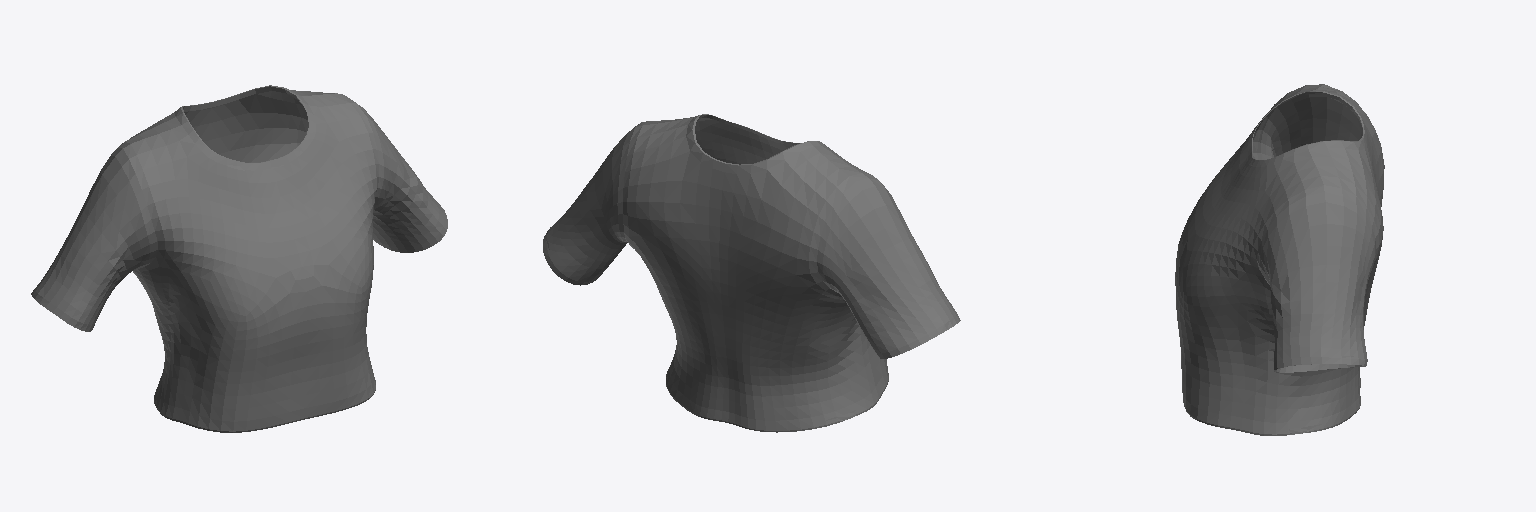
Rendered from nuBIG.obj.
The picture shows the model from 3 angles: view 1: azimuth 30°, elevation 25°; view 2: azimuth 150°, elevation 25°; view 3: azimuth 270°, elevation 25°; orthographic projection.
Parts seen in each view (by area): view 1: Top_Low_obj; view 2: Top_Low_obj; view 3: Top_Low_obj.
Boxes of the visible parts, box(x1,y1,x2,y2) form: Top_Low_obj: box(31, 85, 447, 432); Top_Low_obj: box(543, 114, 960, 432); Top_Low_obj: box(1175, 84, 1384, 435).
Size of the model in its own units: 33.18 by 22.05 by 14.97.